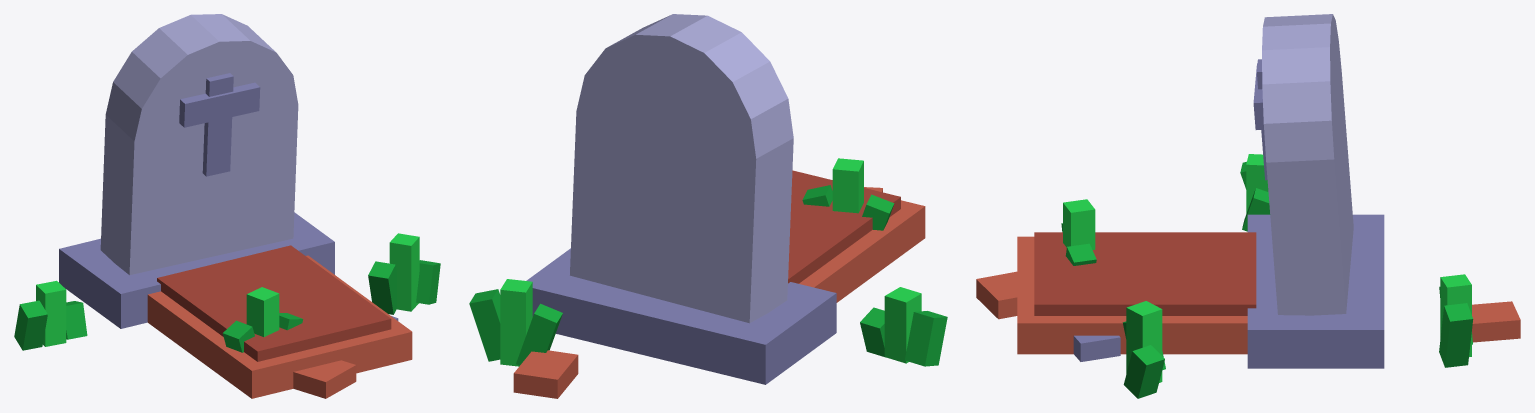
File: Tombstone.fbx
3 views of the same model, side by side, from view 1: azimuth 30°, elevation 25°; view 2: azimuth 150°, elevation 25°; view 3: azimuth 270°, elevation 25° (orthographic). The views are drawn at different scales.
Visible parts, largest first — view 1: Tomb, DirtDark.003, TombDark, Dirt.003, GrassDark.015, Grass.015; view 2: Tomb, TombDark, Dirt.003, GrassDark.015, Grass.015, DirtDark.003; view 3: Tomb, DirtDark.003, TombDark, Dirt.003, Grass.015, GrassDark.015.
Part boxes in pixels (bbox=[...]): Tomb: bbox=[100, 14, 298, 275]; DirtDark.003: bbox=[157, 245, 391, 361]; TombDark: bbox=[59, 73, 398, 328]; Dirt.003: bbox=[147, 255, 412, 398]; GrassDark.015: bbox=[14, 260, 440, 352]; Grass.015: bbox=[36, 233, 419, 346]; Tomb: bbox=[570, 14, 793, 323]; TombDark: bbox=[526, 248, 836, 384]; Dirt.003: bbox=[513, 187, 925, 398]; GrassDark.015: bbox=[469, 185, 947, 366]; Grass.015: bbox=[500, 158, 921, 366]; DirtDark.003: bbox=[788, 170, 900, 283]; Tomb: bbox=[1262, 14, 1353, 315]; DirtDark.003: bbox=[1034, 232, 1256, 315]; TombDark: bbox=[1073, 59, 1384, 368]; Dirt.003: bbox=[976, 236, 1520, 354]; Grass.015: bbox=[1063, 154, 1471, 382]; GrassDark.015: bbox=[1061, 161, 1473, 398].
Bounding box in the file's own units: 5.52 × 3.75 × 6.38.
